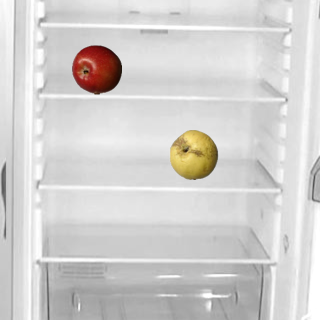Apple Braeburn: (71, 44, 121, 94)
Apple Golden 1: (168, 129, 218, 179)
